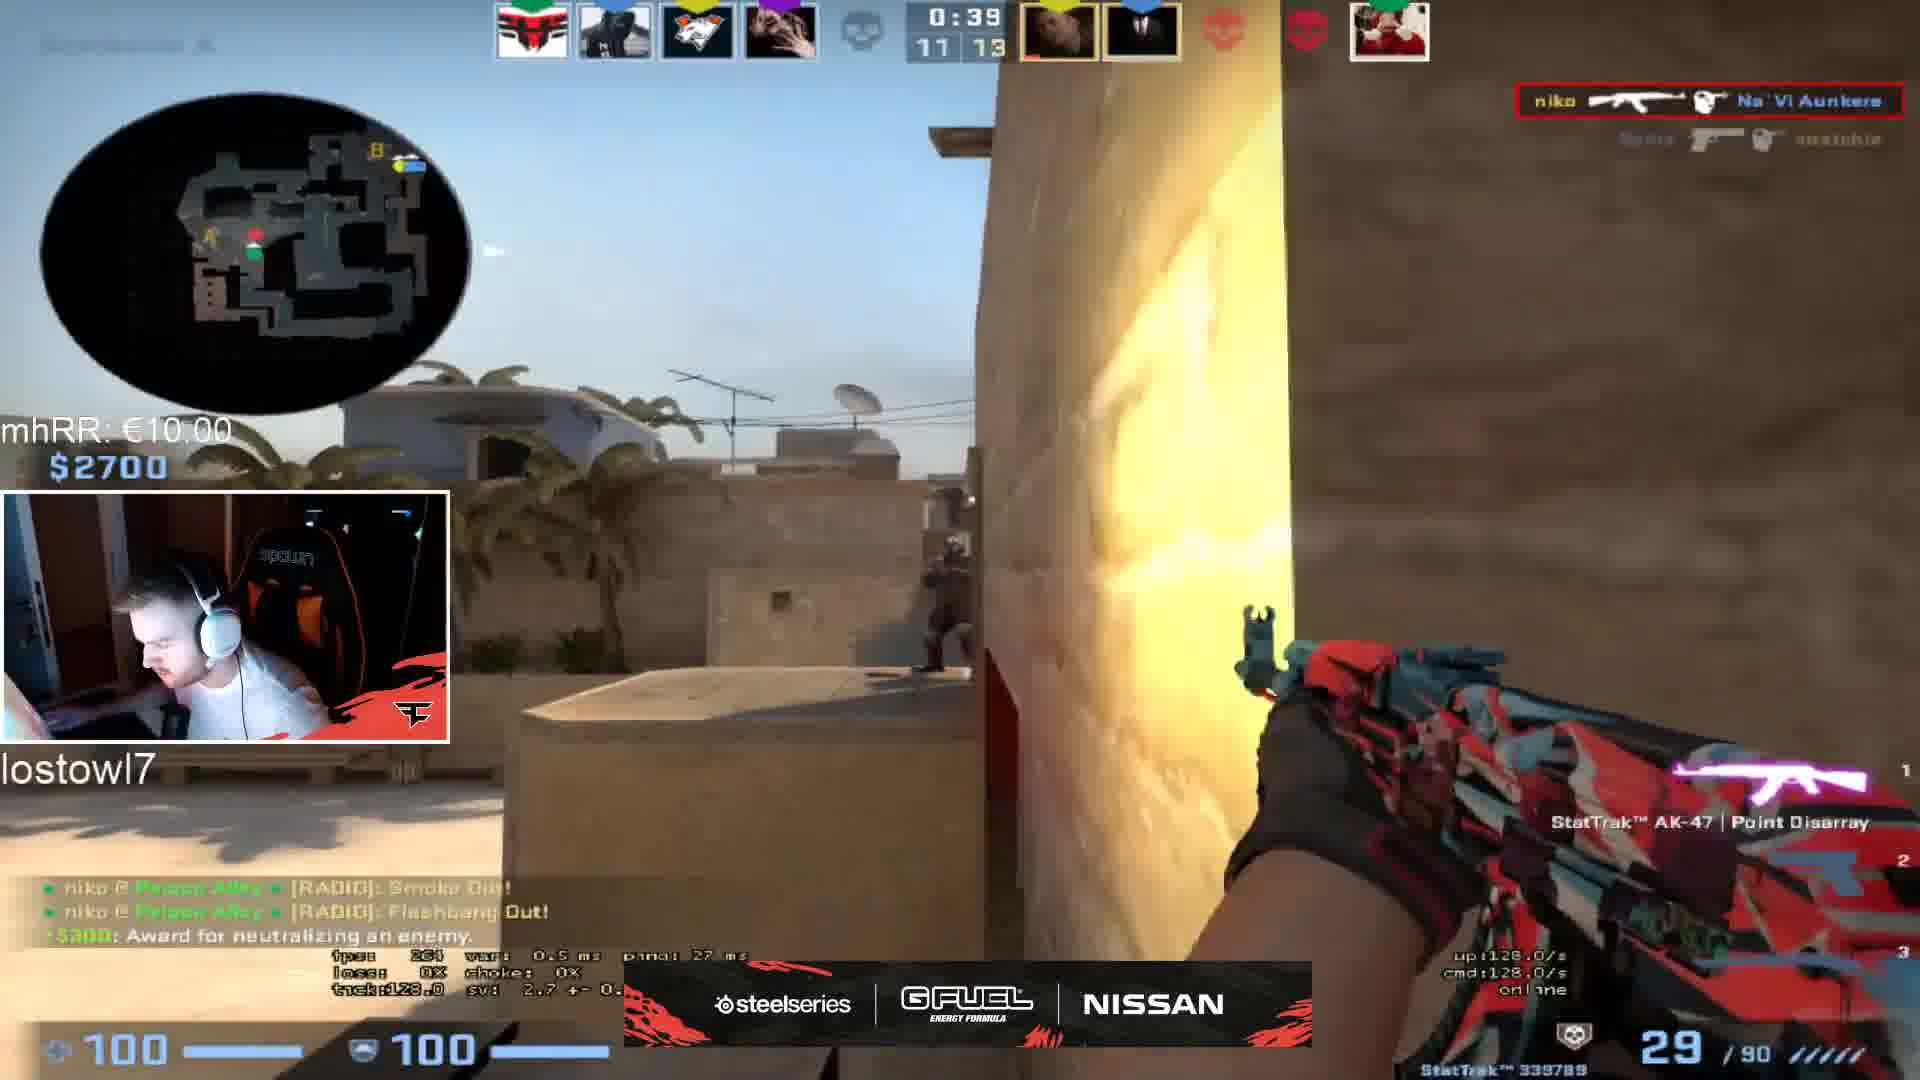enemy: (905, 530, 996, 682)
